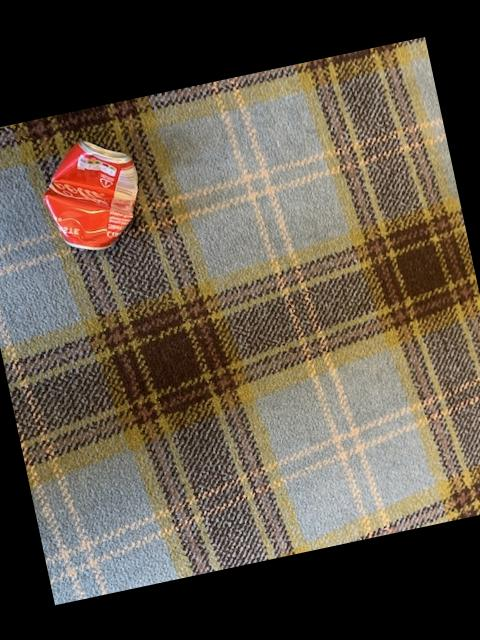metal: (44, 139, 138, 248)
